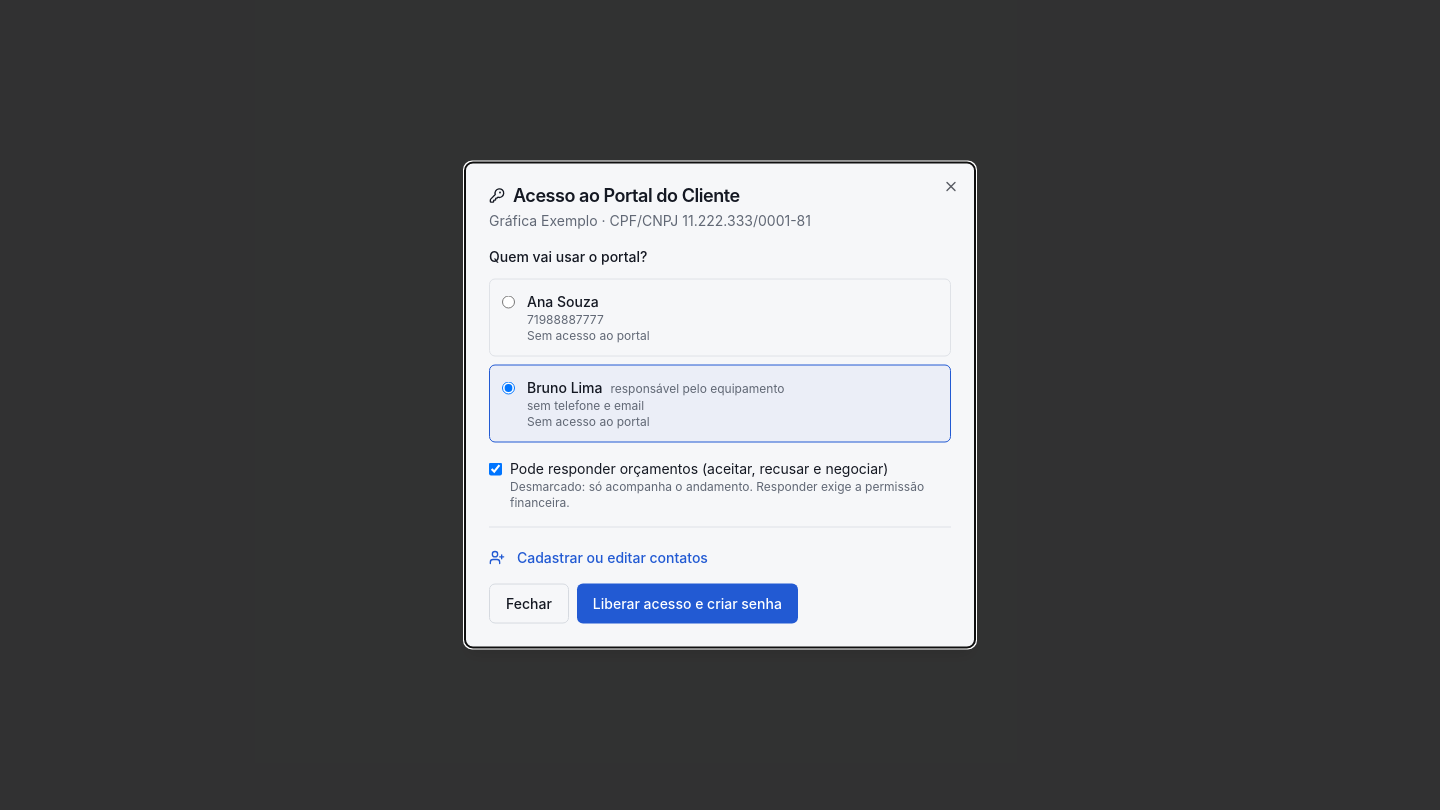
Test: AcessoPortalDialog › marca o responsável, libera o acesso para responder e segue para a senha
Expected: the radio button labelled "Bruno Lima" is checked, [502,382,515,394]
Expected: the text "responsável pelo equipamento" is shown, [610,380,784,396]
Click the button "Liberar acesso e criar senha": (687, 604) [577,584,798,624]
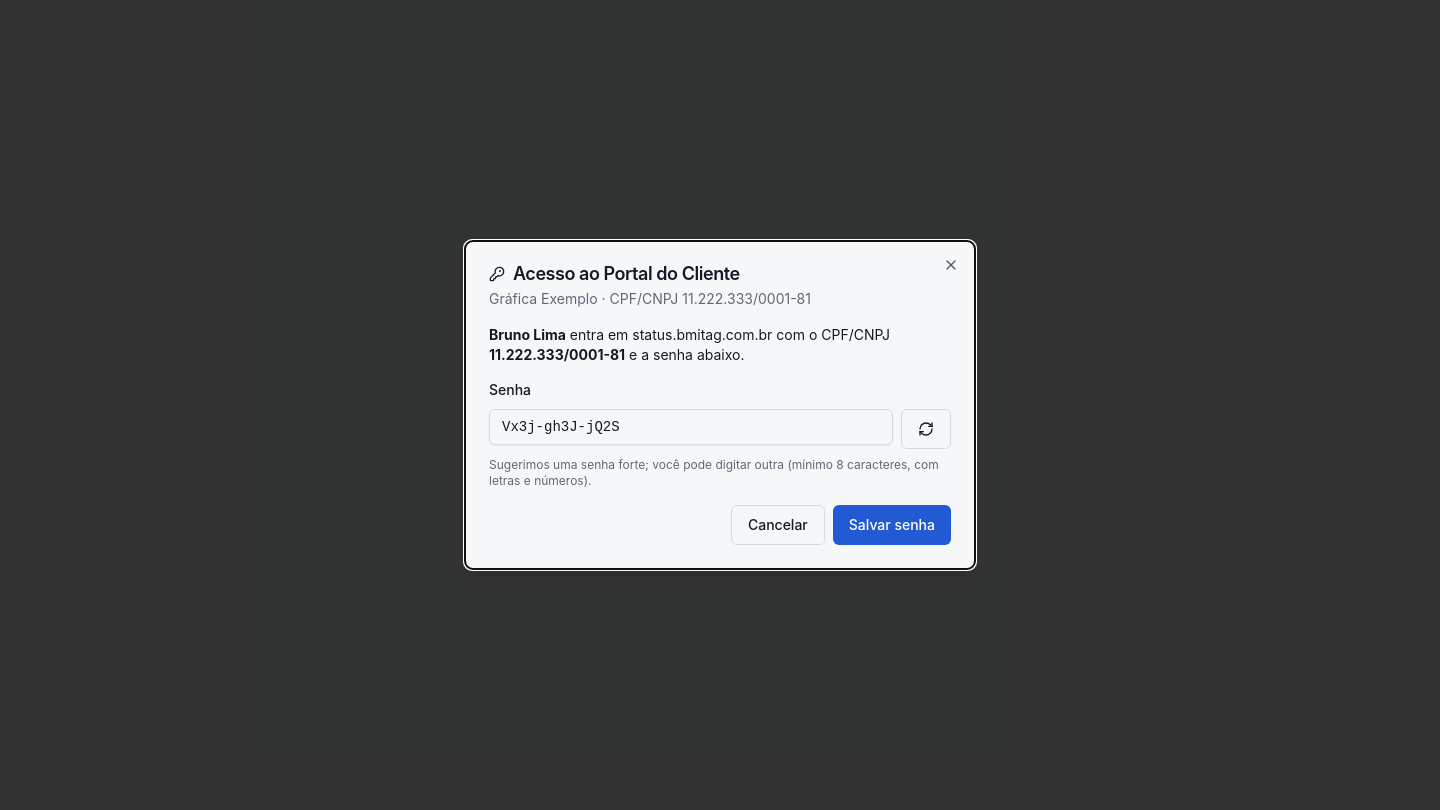
Expected: the field labelled "Senha" is shown, [489,409,893,445]
Expected: the text "11.222.333/0001-81" is shown, [489,346,625,363]
